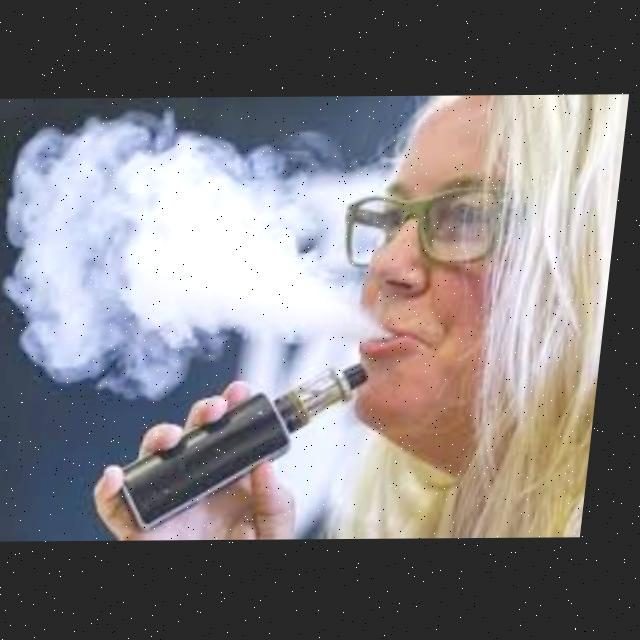vape: (122, 363, 380, 532)
